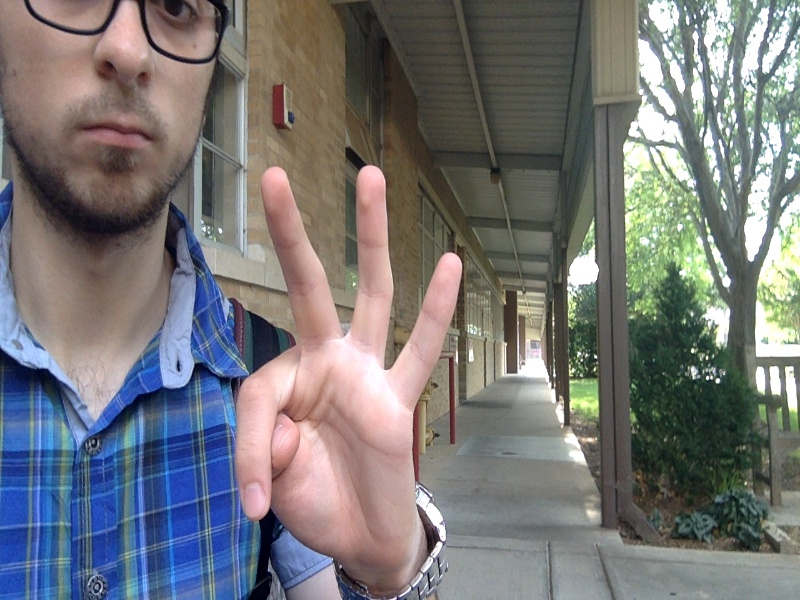3-hand: (235, 164, 462, 533)
